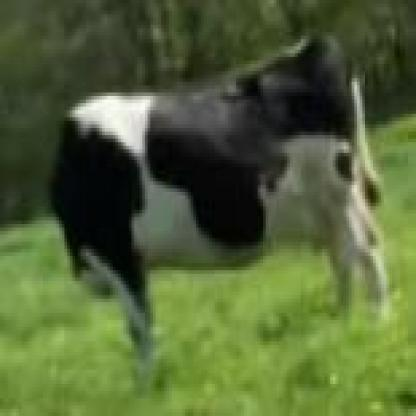cow: (52, 36, 388, 391)
